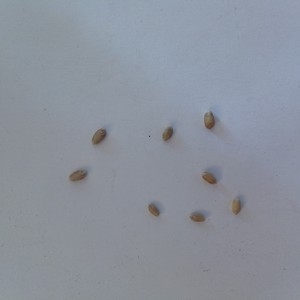trigo: (197, 168, 221, 188), (88, 127, 109, 149), (226, 195, 244, 218), (144, 201, 163, 221), (67, 168, 88, 186), (159, 125, 178, 144), (188, 210, 207, 226), (201, 110, 215, 131)
